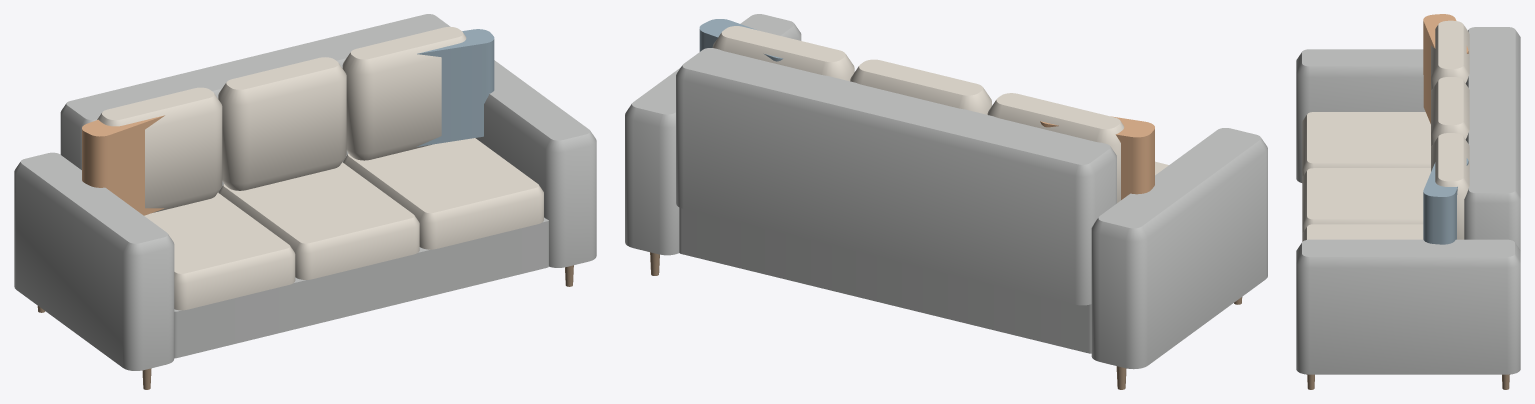
3 views of the same model, side by side, from view 1: azimuth 30°, elevation 25°; view 2: azimuth 150°, elevation 25°; view 3: azimuth 270°, elevation 25° (orthographic). The views are drawn at different scales.
Visible parts, largest first — view 1: Sofa văng Chiều dài=2000; view 2: Sofa văng Chiều dài=2000; view 3: Sofa văng Chiều dài=2000.
Boxes of the visible parts, x1,y1,x2,y2 form: Sofa văng Chiều dài=2000: (14,14,596,389); Sofa văng Chiều dài=2000: (625,14,1267,389); Sofa văng Chiều dài=2000: (1296,14,1520,389).
Size of the model in its own units: 2.02 by 0.85 by 0.9.
